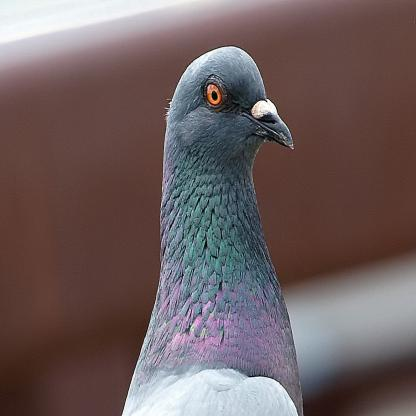Flying Rat: (125, 41, 304, 416)
